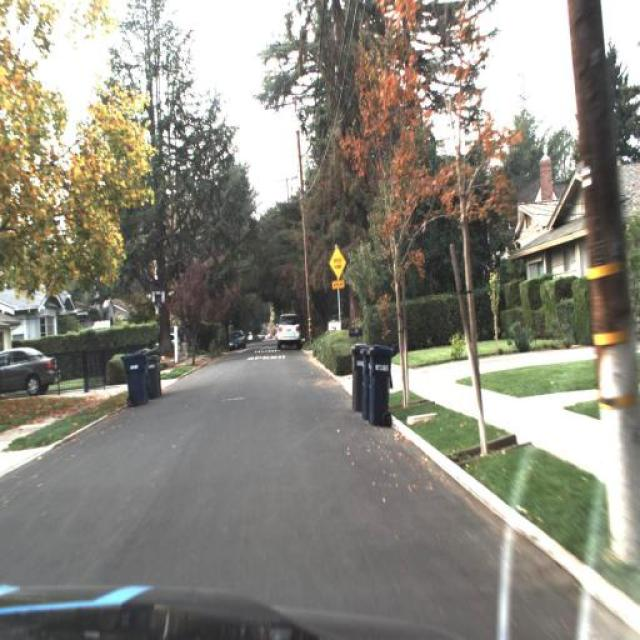car: (0, 338, 59, 398), (275, 310, 301, 348), (226, 324, 249, 354)
